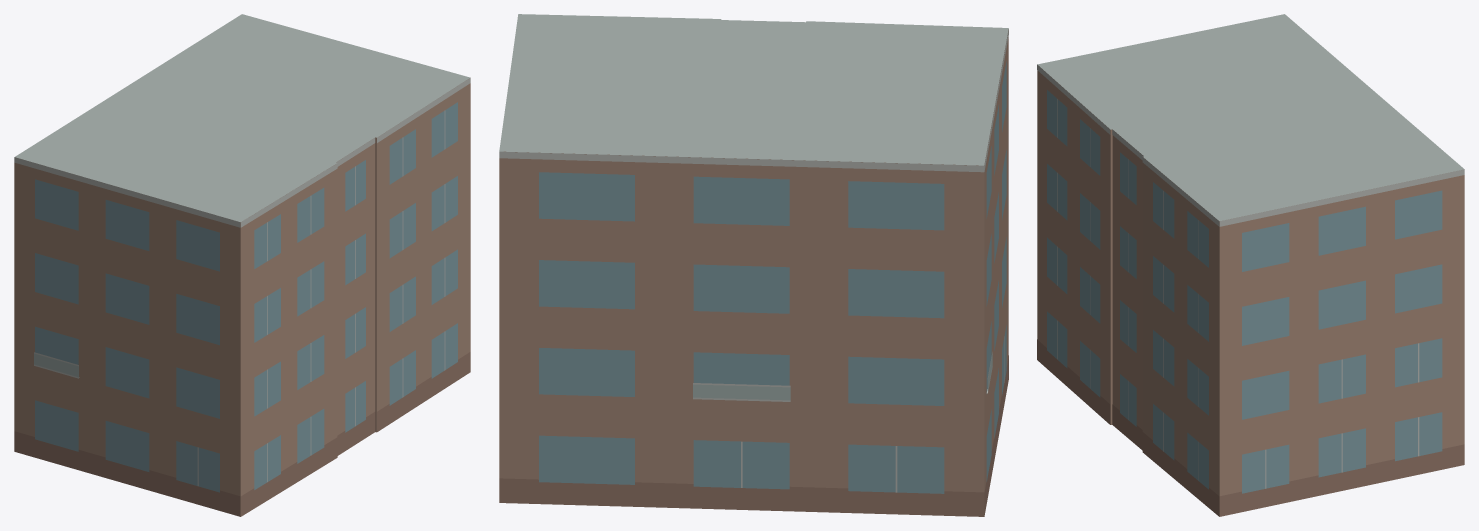
The model's file is survey-upis-32732579.glb.
3 renders of one model, left to right at view 1: azimuth 30°, elevation 25°; view 2: azimuth 150°, elevation 25°; view 3: azimuth 270°, elevation 25°, orthographic. The views are drawn at different scales.
Parts seen in each view (by area): view 1: survey-upis-32732579.tmp; view 2: survey-upis-32732579.tmp; view 3: survey-upis-32732579.tmp.
Part boxes in pixels (x1,y1,x2,y2): survey-upis-32732579.tmp: (14,14,470,516); survey-upis-32732579.tmp: (499,14,1008,516); survey-upis-32732579.tmp: (1037,14,1464,516).
Size of the model in its own units: 19.41 by 12.9 by 16.92.
